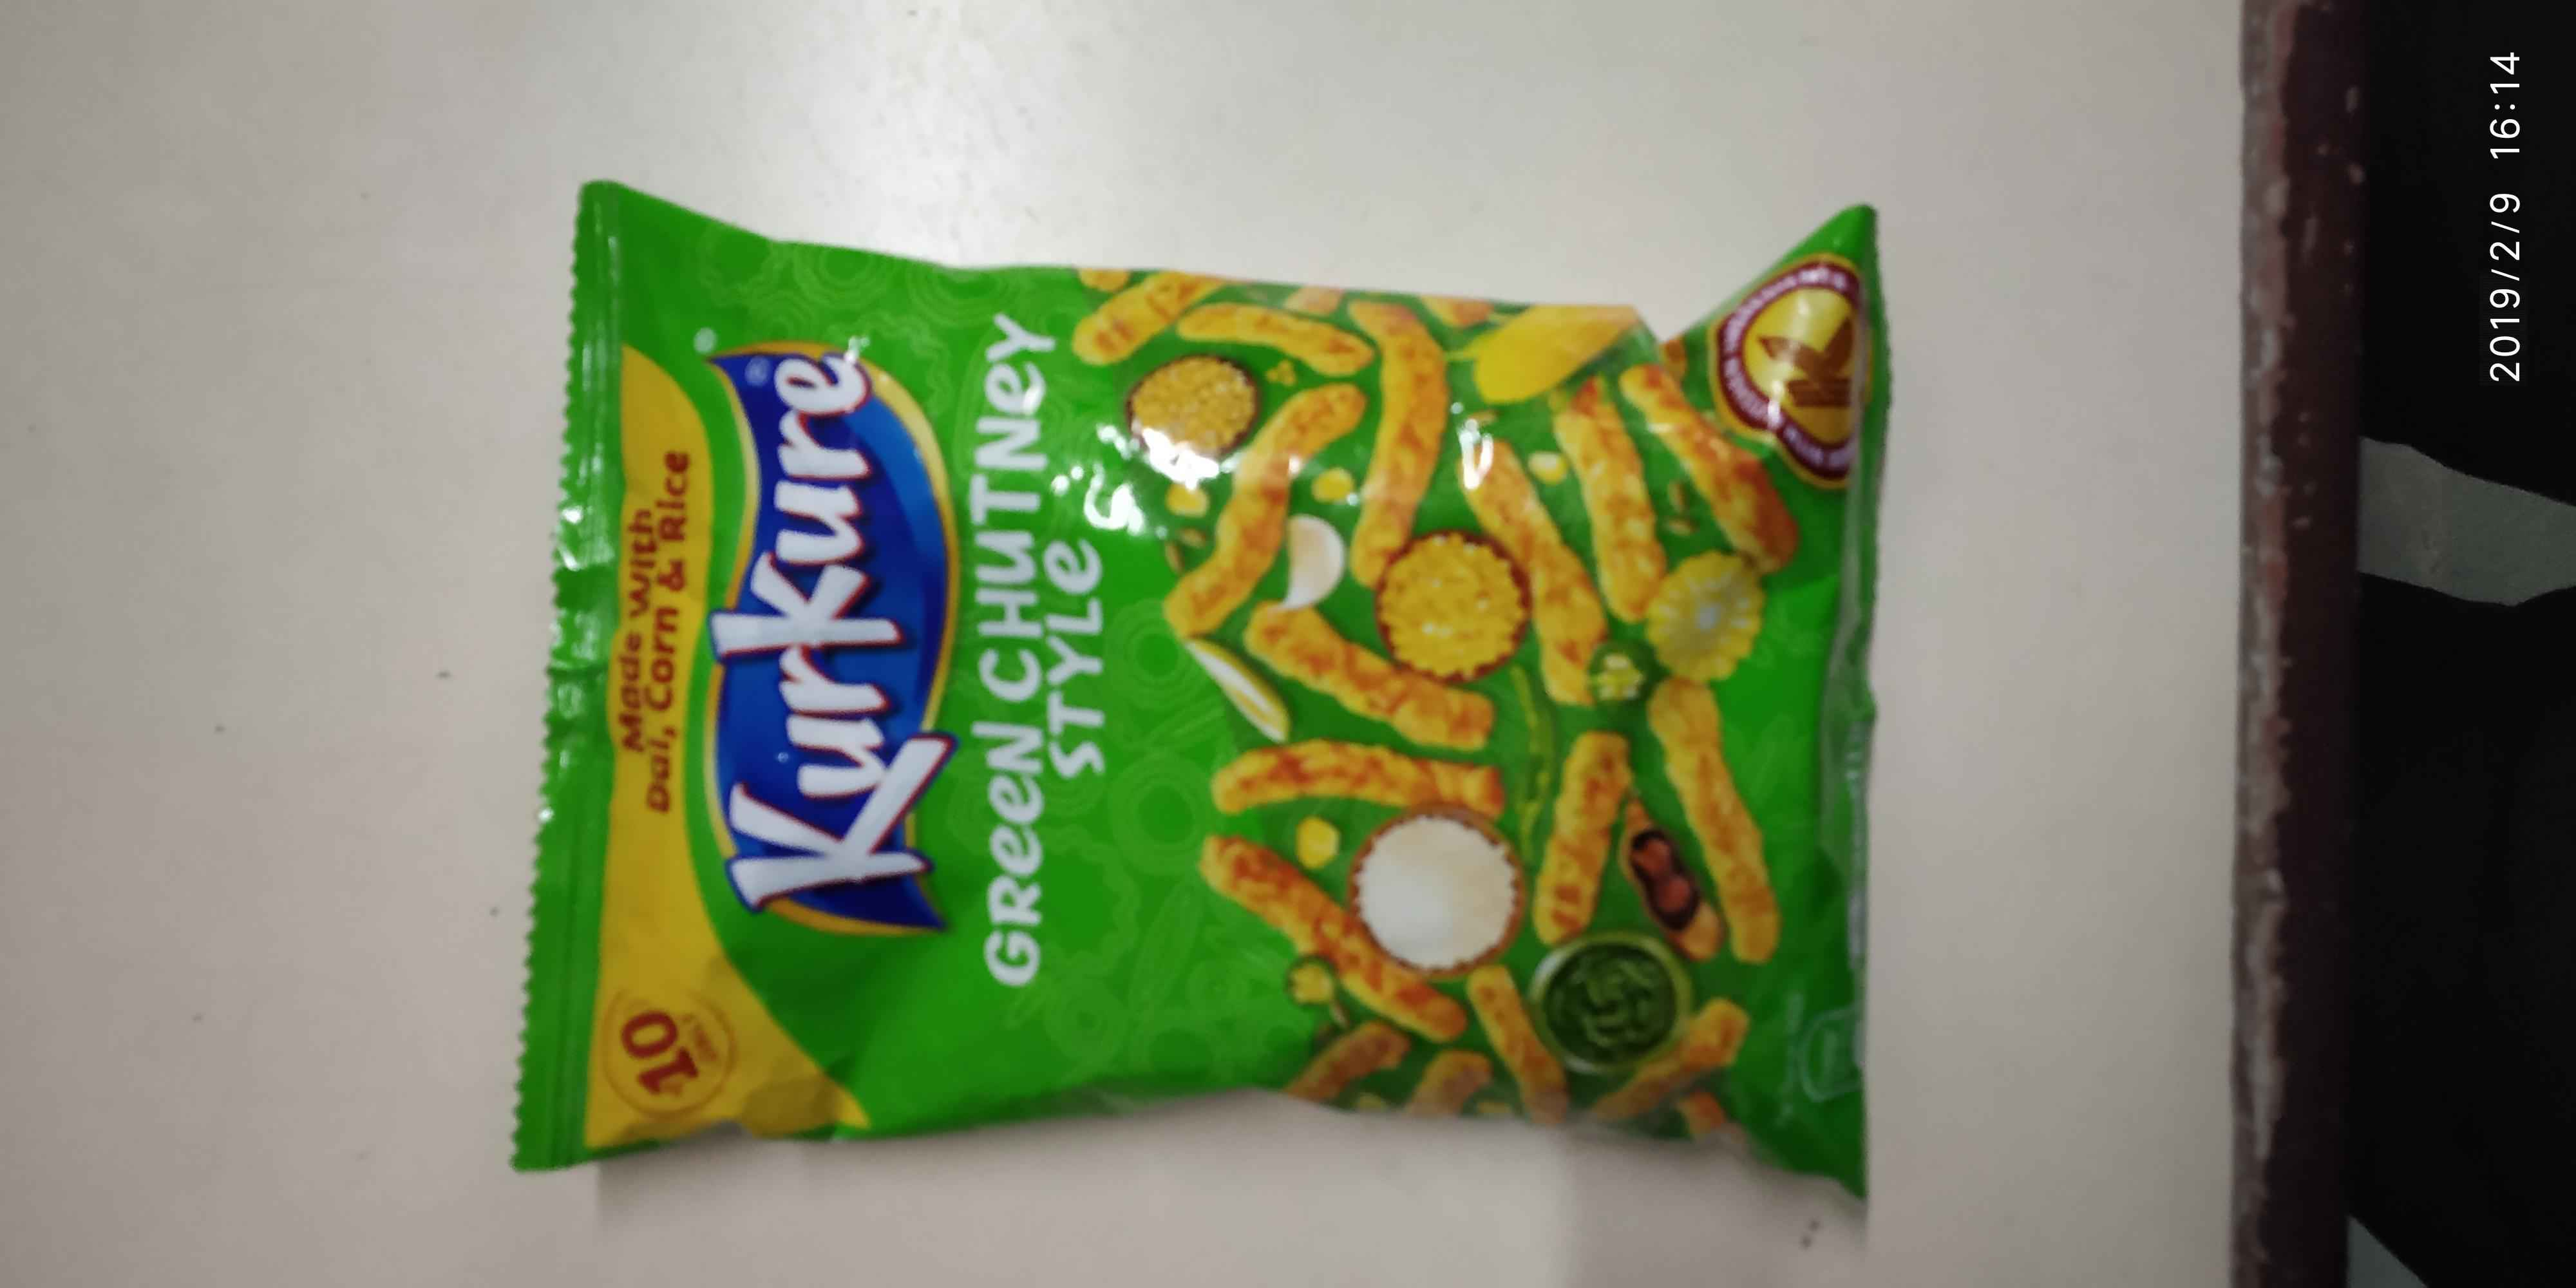kurkure: (708, 306, 986, 941)
